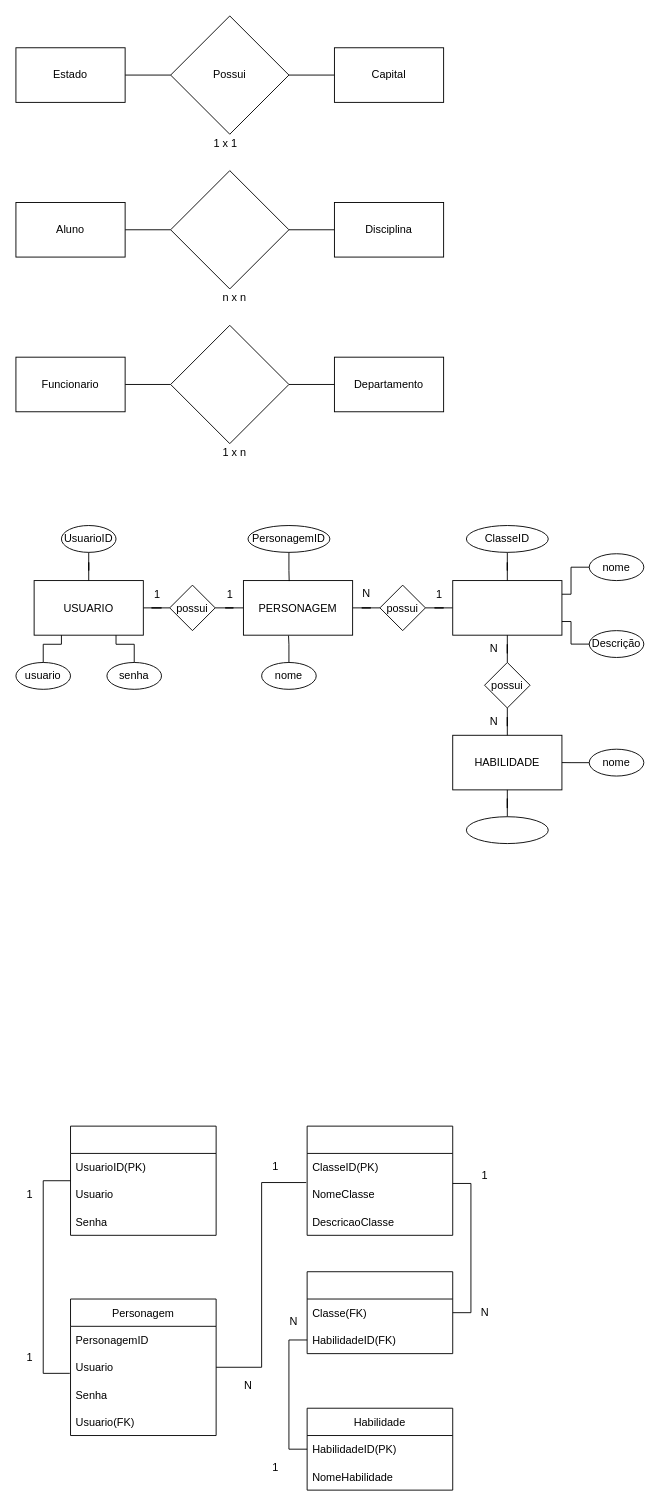
Image size: 660x1506. Some labels were removed from this diagram. Here are the shapes that lost their labels. From the top down, the box of each, then its label:
(170, 170, 289, 289): Matriculado
(170, 324, 289, 444): Trabalha
(452, 580, 562, 635): CLASSE
(465, 816, 548, 844): HabilidadeID
(70, 1125, 216, 1235): Usuarios
(306, 1125, 453, 1235): Classes
(306, 1271, 453, 1354): ClasseHabilidade
